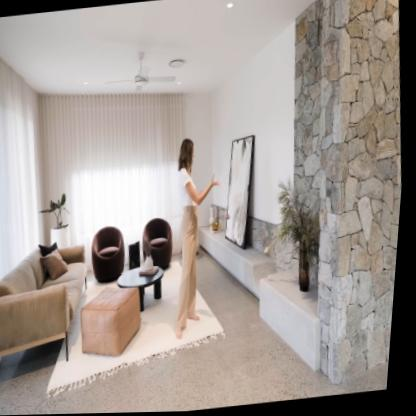Sofa: (0, 241, 103, 396)
Table: (118, 262, 171, 317)
